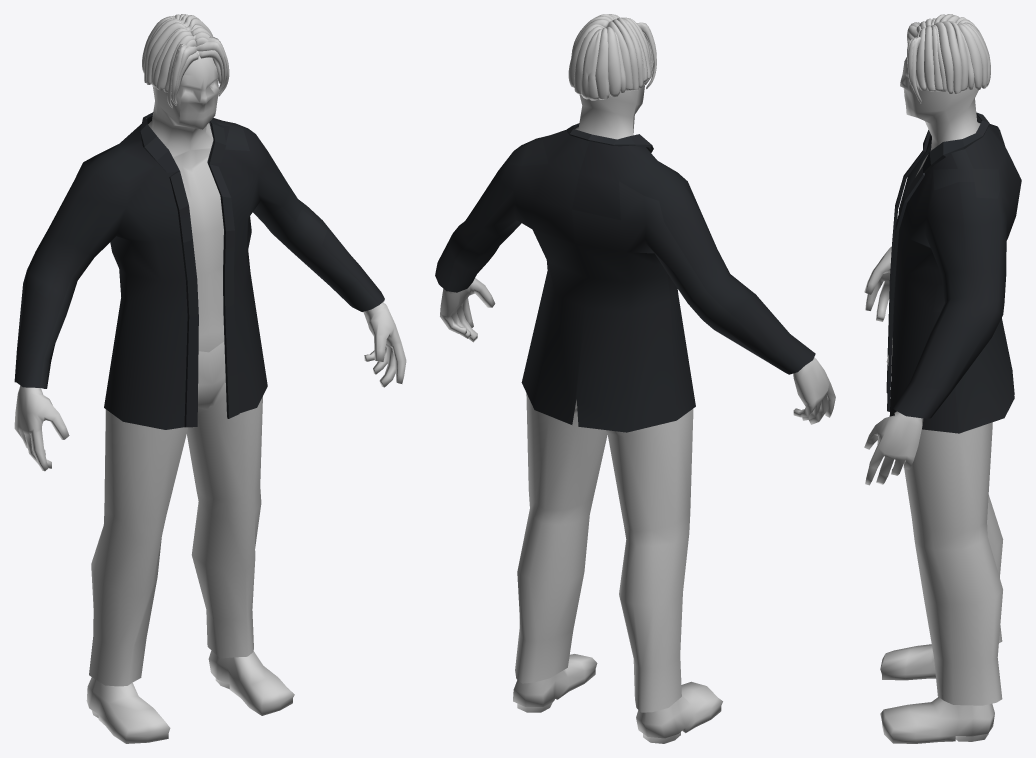
File: SM_Male_01a.fbx
3 renders of one model, left to right at view 1: azimuth 30°, elevation 25°; view 2: azimuth 150°, elevation 25°; view 3: azimuth 270°, elevation 25°, orthographic.
Visible parts, largest first — view 1: Suit_Jacket, Suit_Pants, Male_1a_Body, Male_Brown_hair; view 2: Suit_Jacket, Suit_Pants, Male_1a_Body, Male_Brown_hair; view 3: Suit_Jacket, Suit_Pants, Male_1a_Body, Male_Brown_hair.
Boxes of the visible parts, <box> form: Suit_Jacket: <box>14,112,384,429</box>; Suit_Pants: <box>89,341,262,686</box>; Male_1a_Body: <box>14,50,406,743</box>; Male_Brown_hair: <box>142,14,229,107</box>; Suit_Jacket: <box>435,123,815,432</box>; Suit_Pants: <box>515,393,693,712</box>; Male_1a_Body: <box>440,83,835,743</box>; Male_Brown_hair: <box>568,14,656,100</box>; Suit_Jacket: <box>886,112,1021,433</box>; Suit_Pants: <box>886,338,1003,705</box>; Male_1a_Body: <box>864,57,994,743</box>; Male_Brown_hair: <box>907,14,990,103</box>.
Bounding box in the file's own units: 276 × 489 × 102.
